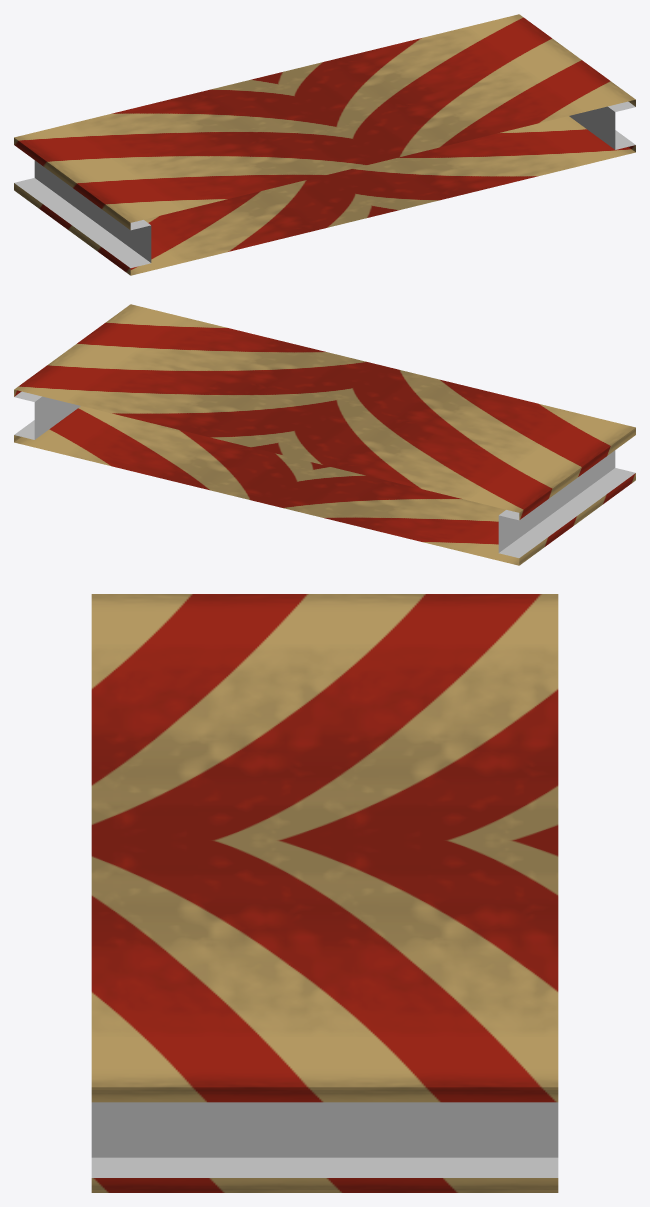
The model's file is MOD_Roller_5_Middle.FBX.
3 views of the same model, one above another, from view 1: azimuth 30°, elevation 25°; view 2: azimuth 150°, elevation 25°; view 3: azimuth 270°, elevation 25° (orthographic). The views are drawn at different scales.
Visible parts, largest first — view 1: MOD_Roller_5_Middle; view 2: MOD_Roller_5_Middle; view 3: MOD_Roller_5_Middle.
Part boxes in pixels (<box>): MOD_Roller_5_Middle: <box>14,14,635,275</box>; MOD_Roller_5_Middle: <box>14,304,635,565</box>; MOD_Roller_5_Middle: <box>91,594,558,1192</box>.
Bounding box in the file's own units: 5 × 0.5 × 2.
